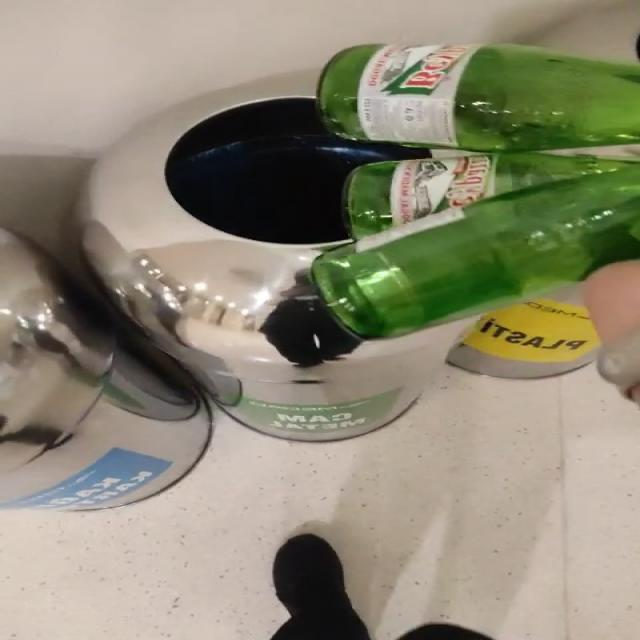Bin: (83, 73, 468, 440)
Glass: (311, 44, 640, 338)
